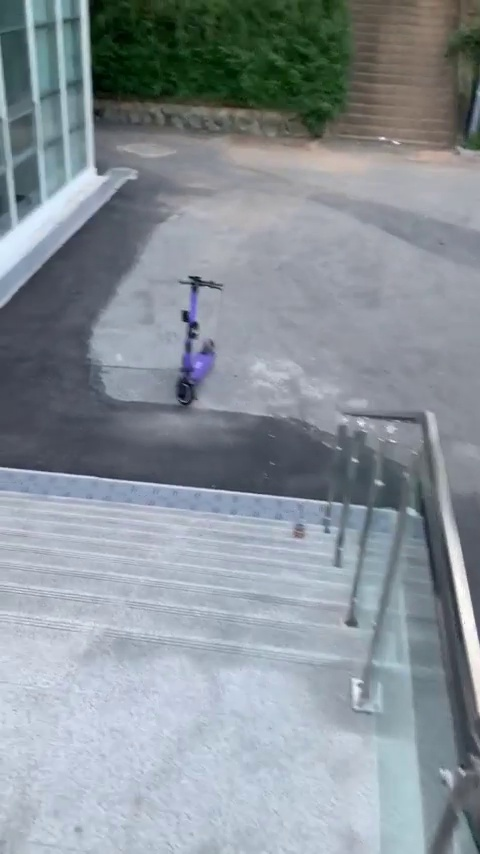beam: (160, 271, 235, 417)
